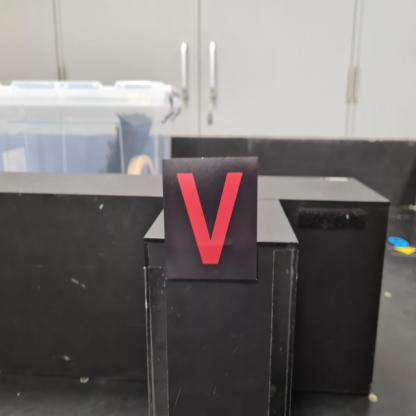v: (162, 157, 259, 281)
